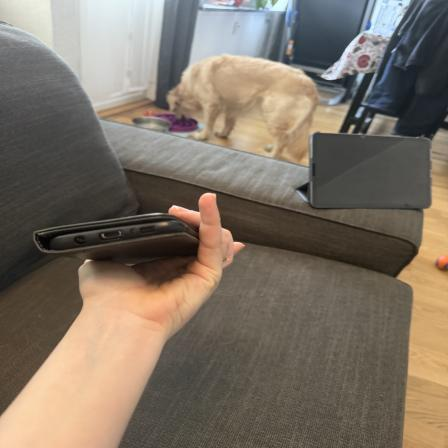phone: (31, 218, 227, 264)
